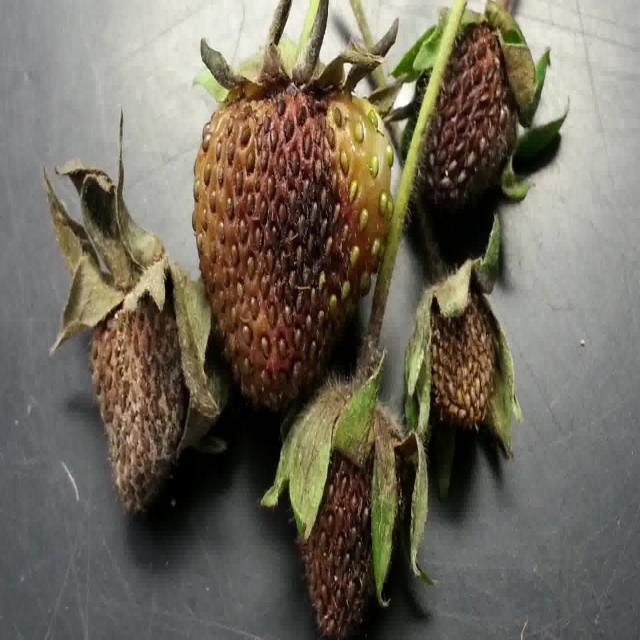Podredumbre de cuero: (190, 10, 392, 395), (56, 223, 206, 512), (284, 401, 414, 630), (409, 6, 551, 206), (414, 247, 514, 440)
